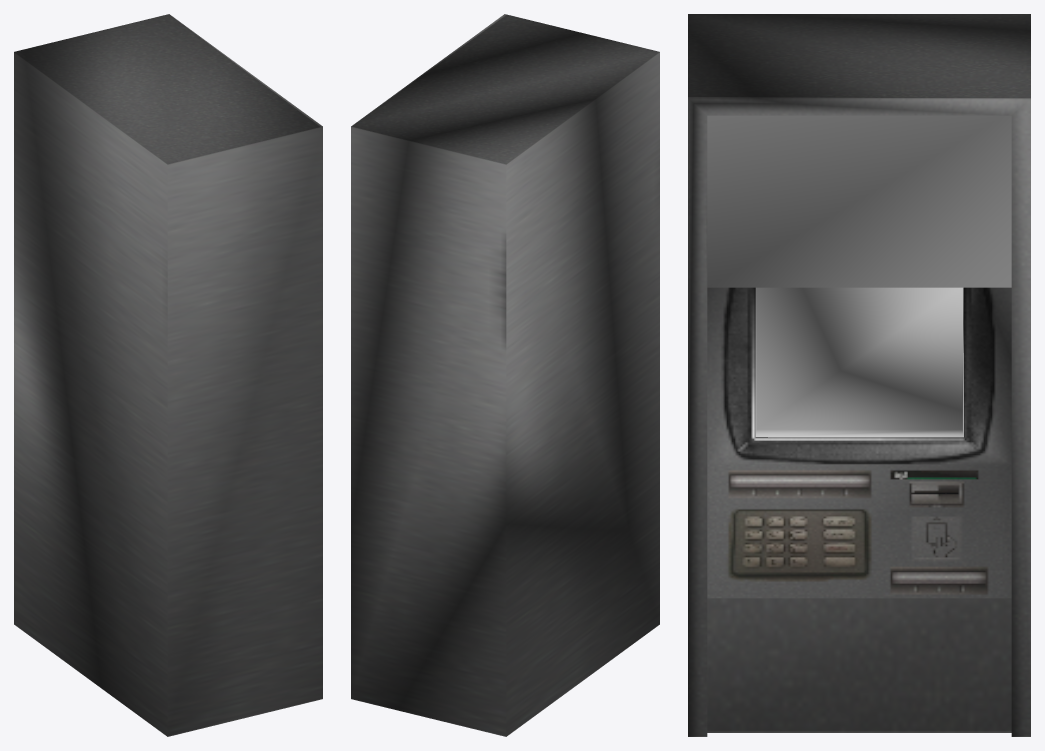
The model's file is atm.obj.
The picture shows the model from 3 angles, left to right: view 1: azimuth 30°, elevation 25°; view 2: azimuth 150°, elevation 25°; view 3: azimuth 270°, elevation 25°; orthographic projection. The views are drawn at different scales.
Parts seen in each view (by area): view 1: SELECT; view 2: SELECT; view 3: SELECT.
Boxes of the visible parts, left/top/right/bottom form: SELECT: left=14, top=14, right=322, bottom=736; SELECT: left=351, top=14, right=659, bottom=736; SELECT: left=688, top=14, right=1030, bottom=736.
Size of the model in its own units: 42 by 148 by 72.
